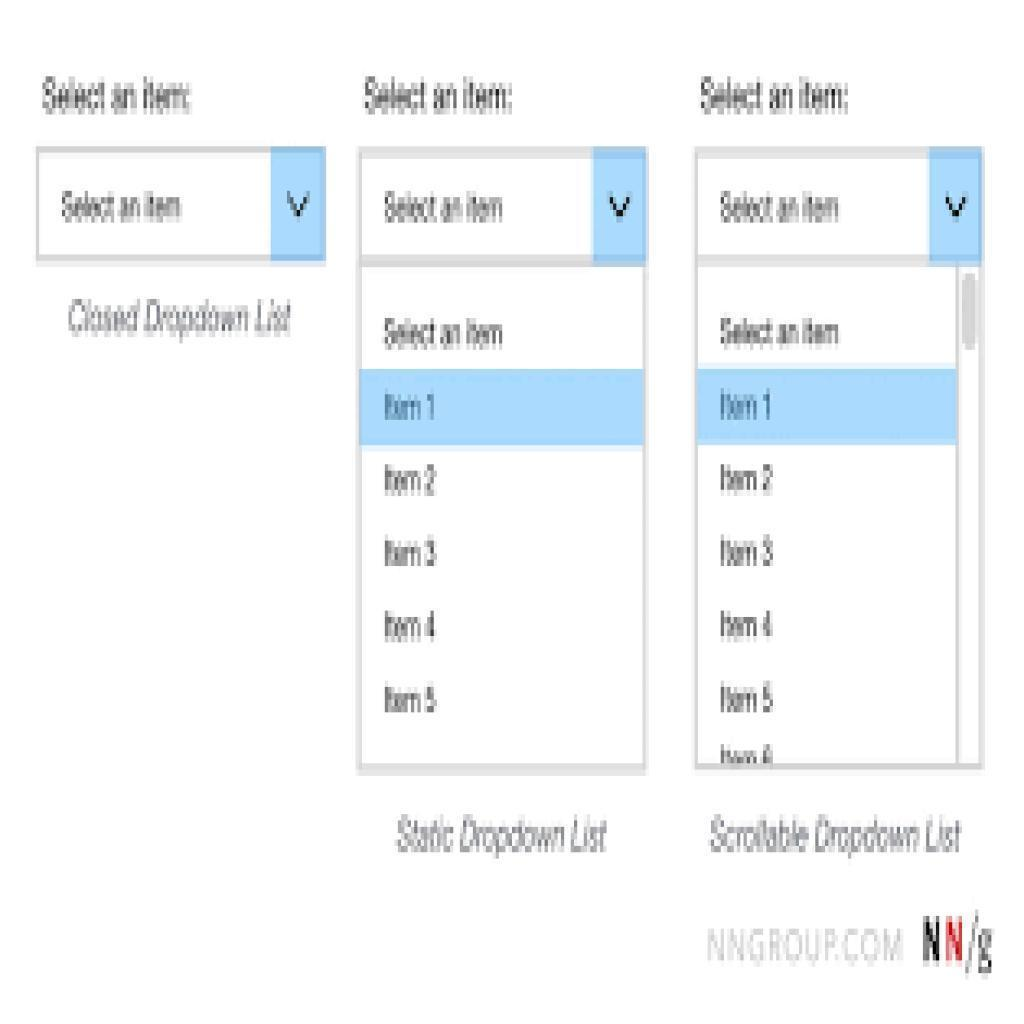dropdown: (693, 149, 982, 263), (358, 152, 651, 263), (36, 150, 327, 259)
